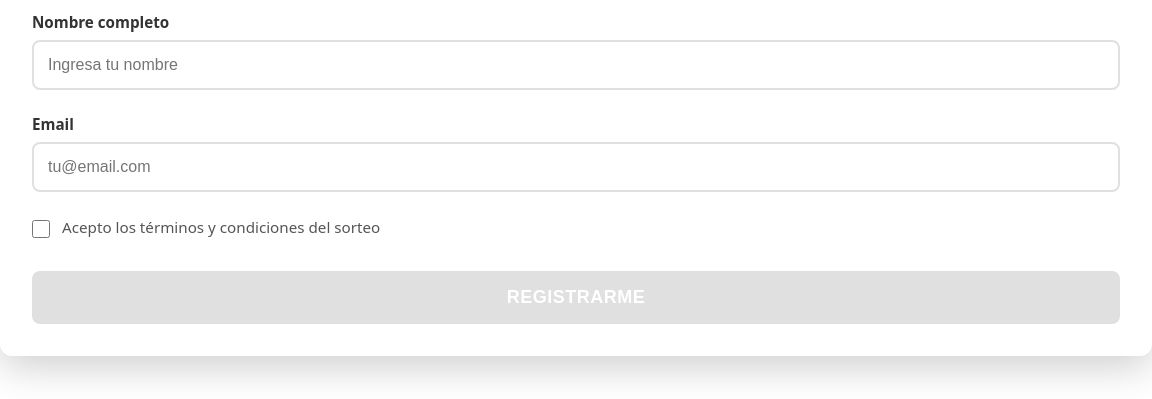
Scenario: RegistrationForm › requiere aceptación de términos para habilitar el envío
Type "Usuario Test" into the field with id "name" at (576, 65), box top-left (32, 40), bottom-right (1120, 90)
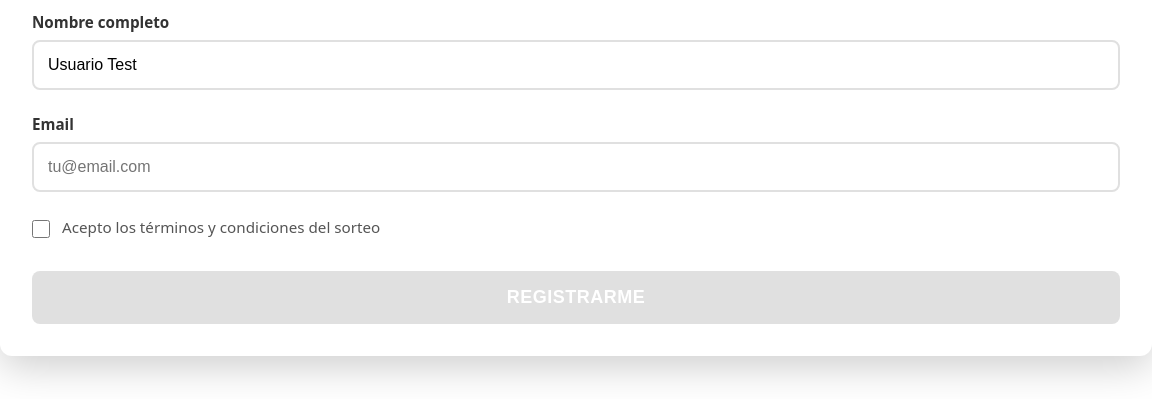
Type "test@example.com" into the field with id "email" at (576, 167), box top-left (32, 142), bottom-right (1120, 192)
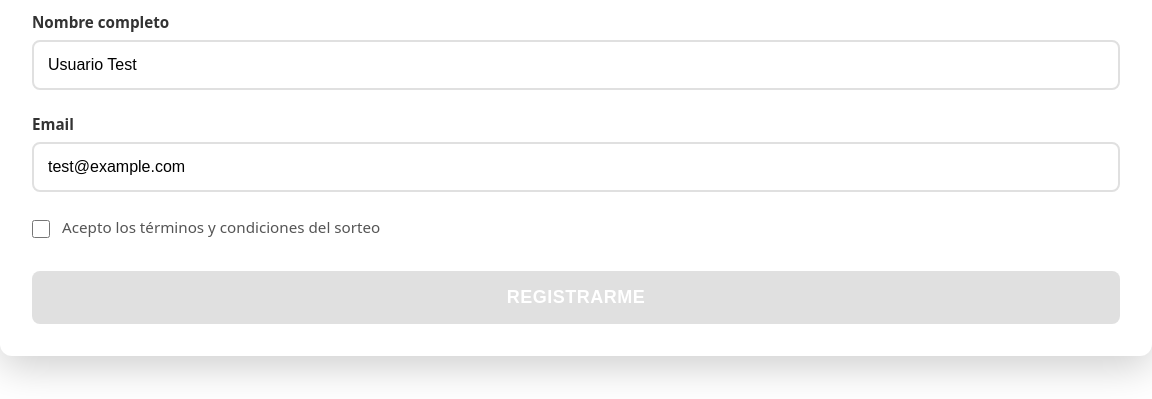
Check: the submit button is disabled, box top-left (32, 271), bottom-right (1120, 324)
Aceptando términos
Click the checkbox with id "terms" at (41, 229), box top-left (32, 220), bottom-right (50, 238)
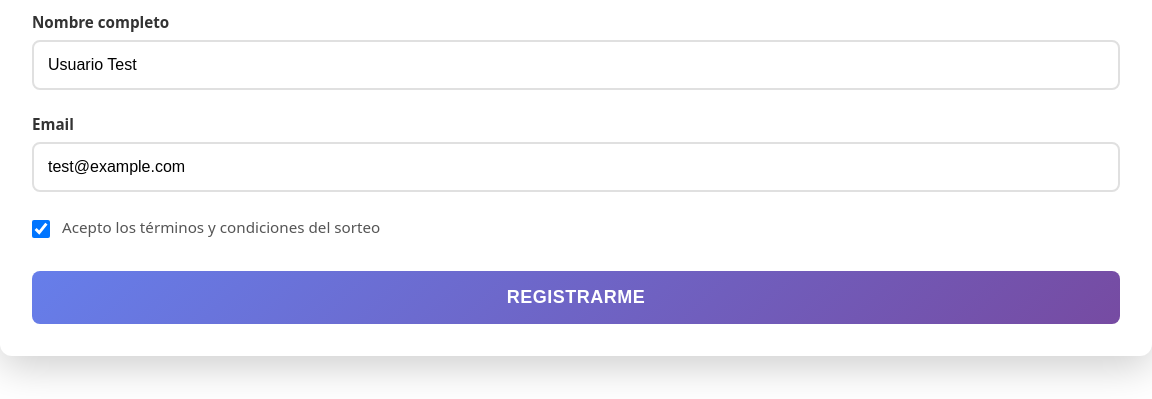
Check: the submit button is enabled, box top-left (32, 271), bottom-right (1120, 324)
Desaceptando términos
Click the checkbox with id "terms" at (41, 229), box top-left (32, 220), bottom-right (50, 238)
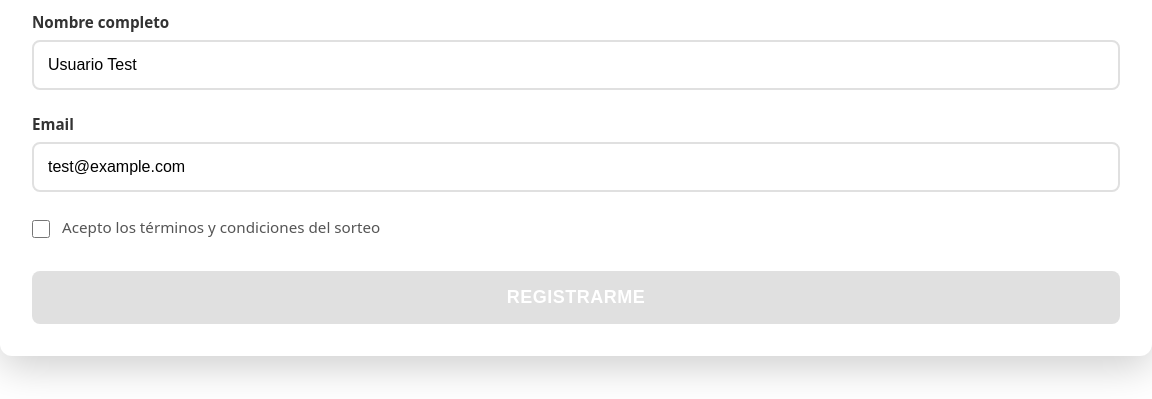
Check: the submit button is disabled, box top-left (32, 271), bottom-right (1120, 324)
